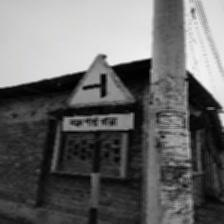Side-road-left: (62, 51, 135, 133)
